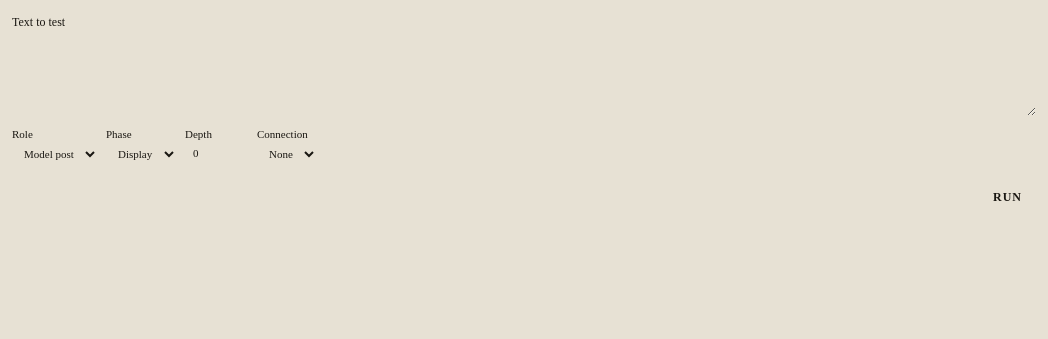
Scenario: runs the trace and shows each step with its reason
The image size is (1048, 339).
Type "Mara -- and Winifred -- wait" into the text box labelled "Text to test" at coordinates (524, 75), box [12,34,1036,116]
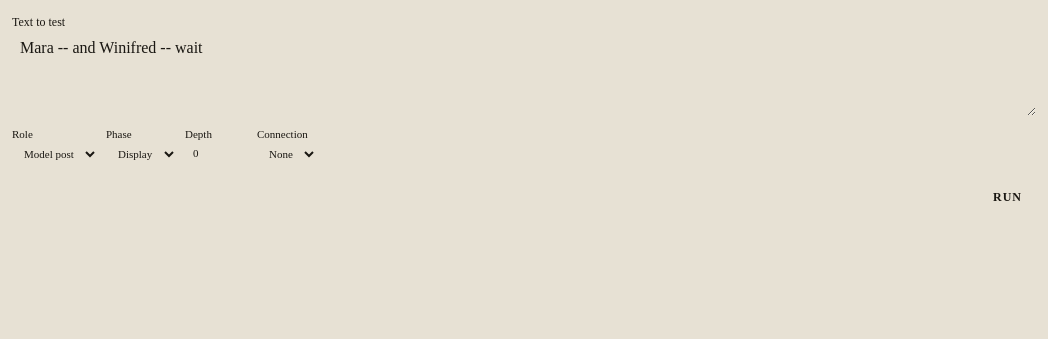
Select "Player post" in the dropdown labelled "Role" at coordinates (55, 154), box [12,142,98,166]
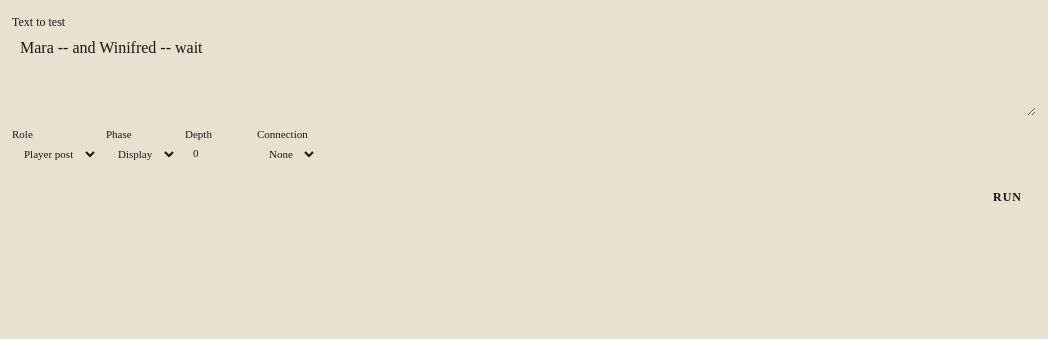
Select "Prompt" in the dropdown labelled "Phase" at coordinates (142, 154), box [106,142,177,166]
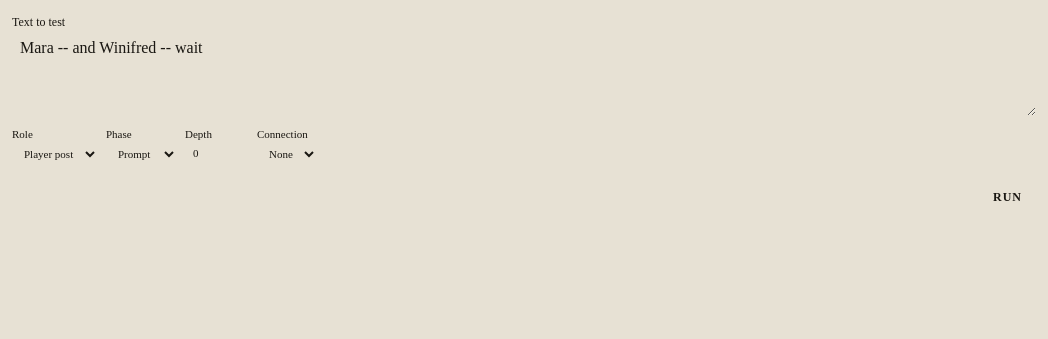
Replace the text in the number field labelled "Depth" with "3" at coordinates (217, 153), box [185,142,249,164]
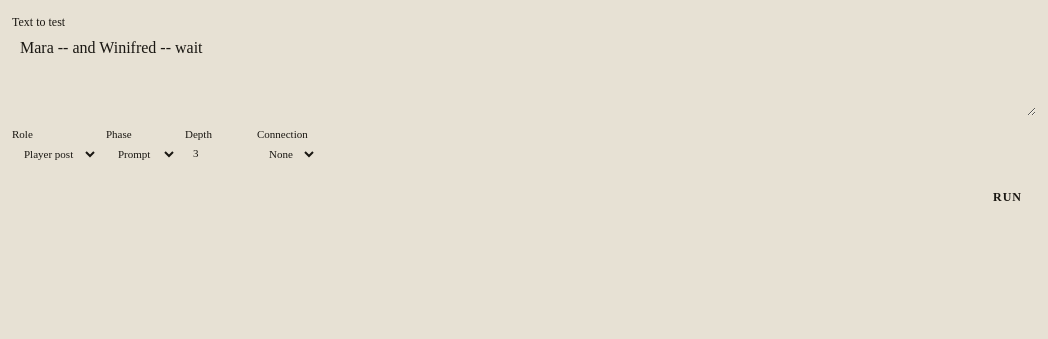
Click the button "Run" at coordinates (1008, 198), box [979,182,1036,213]
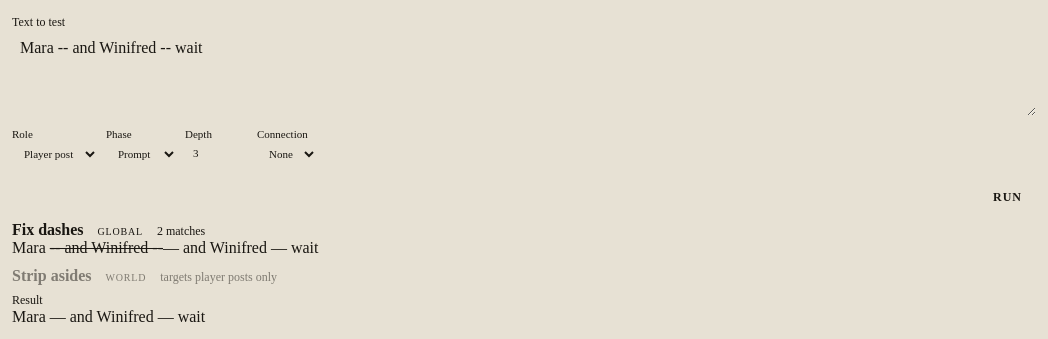
Expected: the text "Fix dashes" is shown, [12,221,84,238]
Expected: the text "2 matches" is shown, [157,224,205,238]
Expected: the list item "Strip asides" shows "targets player posts only", [160,270,277,284]
